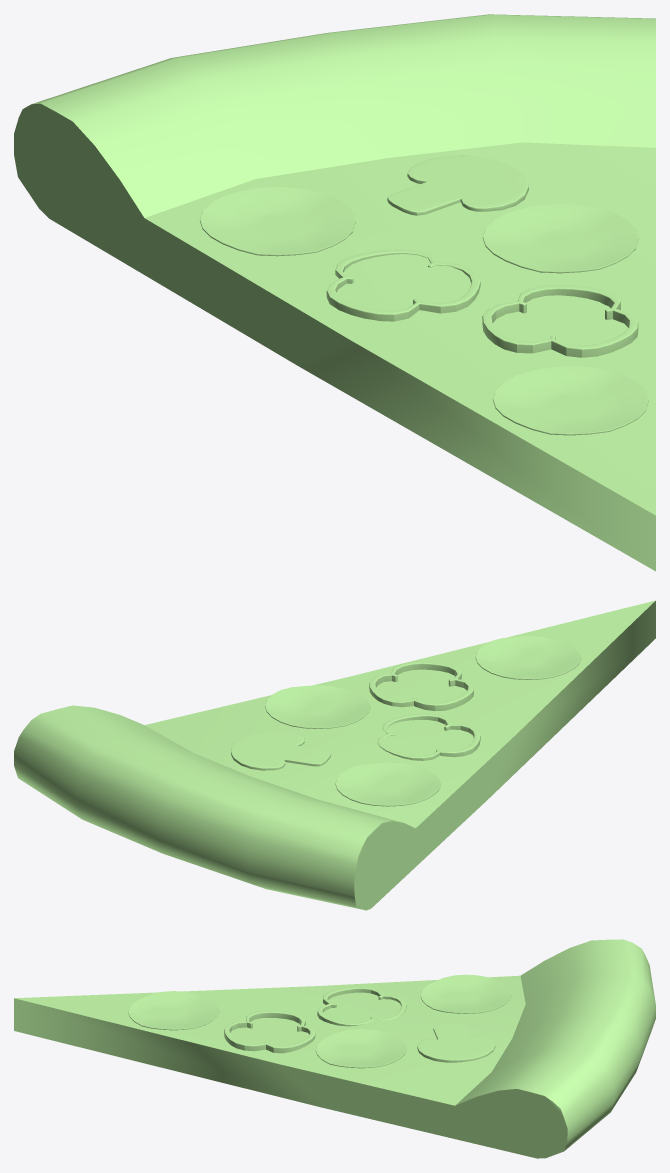
Rendered from Pizza_Slice.fbx.
3 views of the same model, one above another, from view 1: azimuth 30°, elevation 25°; view 2: azimuth 150°, elevation 25°; view 3: azimuth 270°, elevation 25° (orthographic). The views are drawn at different scales.
Visible parts, largest first — view 1: pizza_slice, pepperoni_22, pepperoni_24, pepperoni_23, mushroom_13, green_pepper_15, green_pepper_14; view 2: pizza_slice, pepperoni_23, pepperoni_22, pepperoni_24, mushroom_13, green_pepper_15, green_pepper_14; view 3: pizza_slice, pepperoni_22, pepperoni_24, pepperoni_23, mushroom_13, green_pepper_15, green_pepper_14.
Part boxes in pixels (left/top/right/bottom): pizza_slice: left=14, top=14, right=655, bottom=571; pepperoni_22: left=199, top=186, right=355, bottom=256; pepperoni_24: left=482, top=203, right=638, bottom=273; pepperoni_23: left=492, top=366, right=648, bottom=435; mushroom_13: left=387, top=155, right=528, bottom=215; green_pepper_15: left=482, top=285, right=638, bottom=357; green_pepper_14: left=326, top=249, right=480, bottom=321; pizza_slice: left=14, top=600, right=655, bottom=910; pepperoni_23: left=475, top=636, right=581, bottom=679; pepperoni_22: left=335, top=762, right=440, bottom=806; pepperoni_24: left=265, top=685, right=370, bottom=728; mushroom_13: left=231, top=731, right=330, bottom=770; green_pepper_15: left=369, top=661, right=473, bottom=710; green_pepper_14: left=377, top=713, right=480, bottom=760; pizza_slice: left=14, top=939, right=655, bottom=1158; pepperoni_22: left=420, top=974, right=511, bottom=1013; pepperoni_24: left=315, top=1029, right=406, bottom=1068; pepperoni_23: left=128, top=991, right=219, bottom=1030; mushroom_13: left=417, top=1023, right=495, bottom=1062; green_pepper_15: left=224, top=1010, right=315, bottom=1053; green_pepper_14: left=317, top=986, right=406, bottom=1026.
Size of the model in its own units: 0.1887 by 0.0381 by 0.3135.
